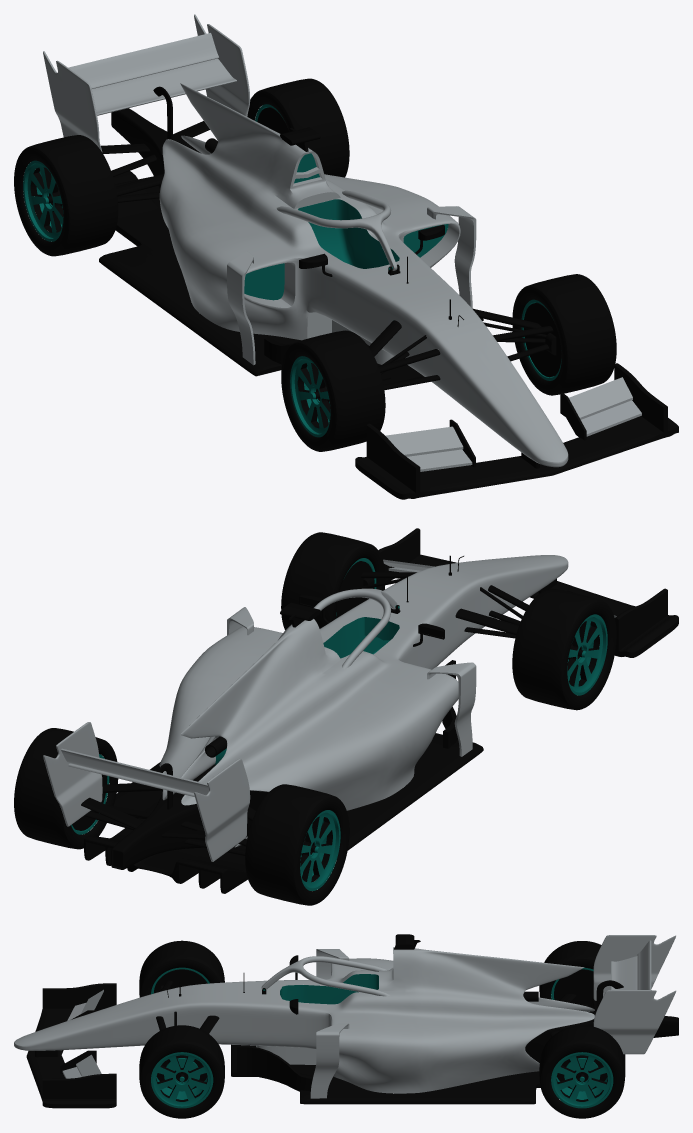
The model's file is Men_accessory_Mercedes_5000.fee53cfa.glb.
The picture shows the model from 3 angles, top to bottom: view 1: azimuth 30°, elevation 25°; view 2: azimuth 150°, elevation 25°; view 3: azimuth 270°, elevation 25°; orthographic projection. The views are drawn at different scales.
Parts seen in each view (by area): view 1: _gltfNode_0, _gltfNode_3, _gltfNode_13, _gltfNode_16, _gltfNode_4, _gltfNode_2, _gltfNode_10, _gltfNode_1, _gltfNode_14, _gltfNode_17; view 2: _gltfNode_0, _gltfNode_3, _gltfNode_16, _gltfNode_13, _gltfNode_4, _gltfNode_17, _gltfNode_14, _gltfNode_2, _gltfNode_10; view 3: _gltfNode_0, _gltfNode_3, _gltfNode_13, _gltfNode_4, _gltfNode_16, _gltfNode_10, _gltfNode_14, _gltfNode_17, _gltfNode_2, _gltfNode_9.
Part boxes in pixels (<box>): _gltfNode_0: <box>43,14,641,471</box>; _gltfNode_3: <box>99,86,553,468</box>; _gltfNode_13: <box>281,274,616,451</box>; _gltfNode_16: <box>14,78,349,256</box>; _gltfNode_4: <box>355,363,678,499</box>; _gltfNode_2: <box>298,199,399,268</box>; _gltfNode_10: <box>47,107,561,401</box>; _gltfNode_1: <box>244,153,448,300</box>; _gltfNode_14: <box>290,299,561,437</box>; _gltfNode_17: <box>23,104,284,241</box>; _gltfNode_0: <box>43,555,616,861</box>; _gltfNode_3: <box>81,555,556,893</box>; _gltfNode_16: <box>14,728,349,905</box>; _gltfNode_13: <box>281,532,616,710</box>; _gltfNode_4: <box>378,528,678,657</box>; _gltfNode_17: <box>71,754,340,890</box>; _gltfNode_14: <box>336,558,607,695</box>; _gltfNode_2: <box>323,617,399,658</box>; _gltfNode_10: <box>72,561,583,855</box>; _gltfNode_0: <box>14,935,676,1098</box>; _gltfNode_3: <box>35,934,678,1104</box>; _gltfNode_13: <box>139,940,224,1118</box>; _gltfNode_4: <box>26,983,116,1108</box>; _gltfNode_16: <box>539,941,625,1118</box>; _gltfNode_10: <box>153,969,607,1089</box>; _gltfNode_14: <box>151,967,213,1108</box>; _gltfNode_17: <box>551,967,613,1108</box>; _gltfNode_2: <box>280,974,378,1004</box>; _gltfNode_9: <box>164,1058,600,1091</box>.
Size of the model in its own units: 170 by 99.24 by 463.
